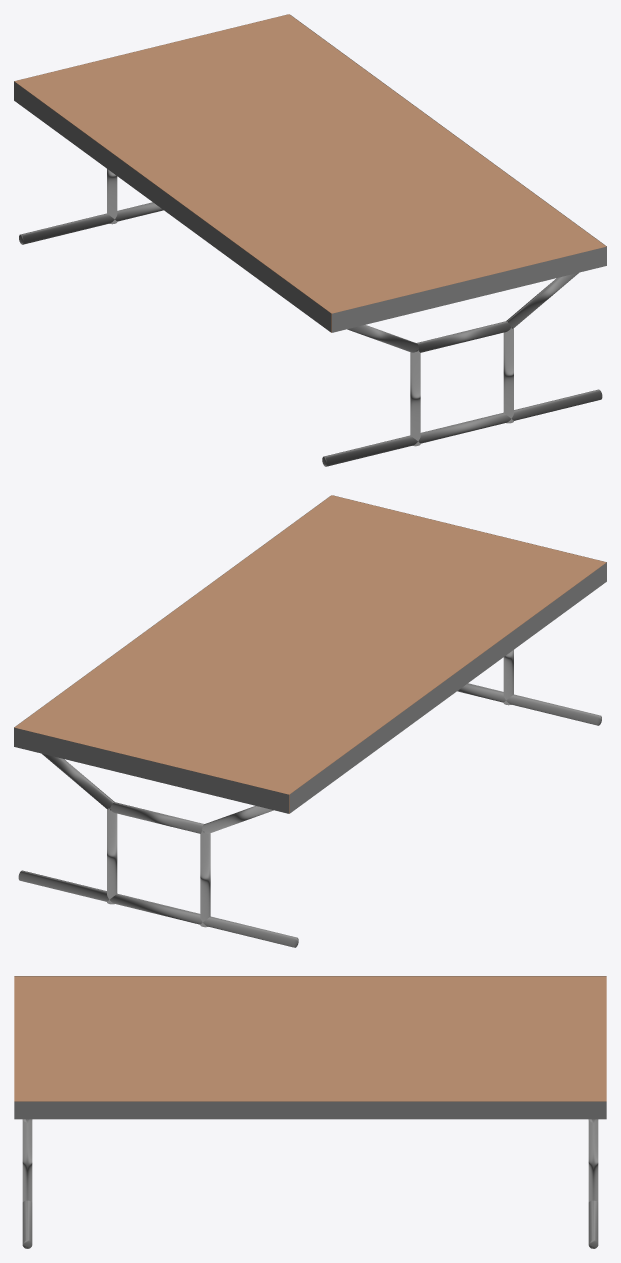
The model's file is staff table.fbx.
The picture shows the model from 3 angles, top to bottom: view 1: azimuth 30°, elevation 25°; view 2: azimuth 150°, elevation 25°; view 3: azimuth 270°, elevation 25°; orthographic projection. The views are drawn at different scales.
Parts seen in each view (by area): view 1: Plane.001; view 2: Plane.001; view 3: Plane.001.
Boxes of the visible parts, box(x1,y1,x2,y2) form: Plane.001: box(14, 14, 606, 466); Plane.001: box(14, 495, 606, 947); Plane.001: box(14, 976, 606, 1248).
Bounding box in the file's own units: 601 × 330 × 1201.
